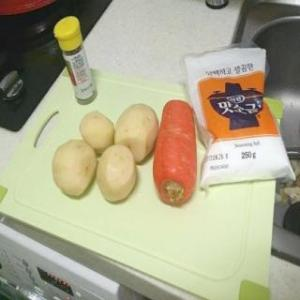carrot: (153, 98, 199, 208)
potato: (112, 102, 160, 166), (52, 138, 99, 199), (96, 145, 140, 205), (80, 111, 116, 155)
